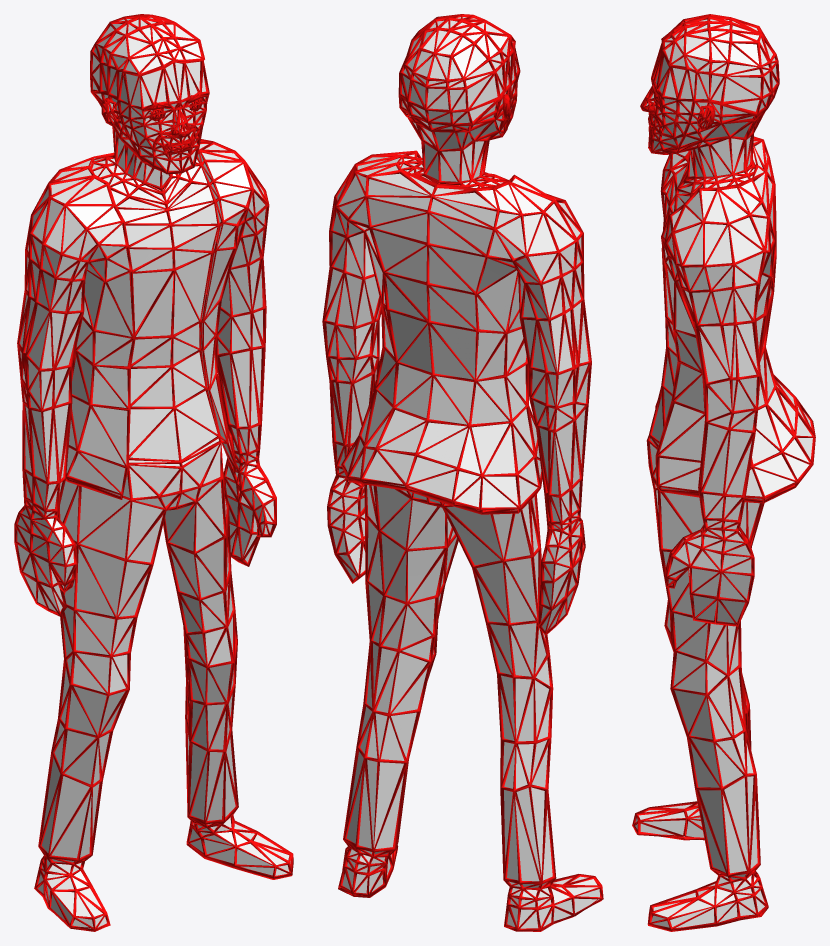
Rendered from elegantIdle_000004.obj.
3 views of the same model, side by side, from view 1: azimuth 30°, elevation 25°; view 2: azimuth 150°, elevation 25°; view 3: azimuth 270°, elevation 25° (orthographic). The views are drawn at different scales.
Parts seen in each view (by area): view 1: BaseHuman_Cylinder.002; view 2: BaseHuman_Cylinder.002; view 3: BaseHuman_Cylinder.002.
Part boxes in pixels (left/top/right/bottom): BaseHuman_Cylinder.002: left=14, top=14, right=293, bottom=931; BaseHuman_Cylinder.002: left=322, top=14, right=603, bottom=931; BaseHuman_Cylinder.002: left=632, top=14, right=815, bottom=931.
Size of the model in its own units: 1.44 by 4.85 by 0.947.
